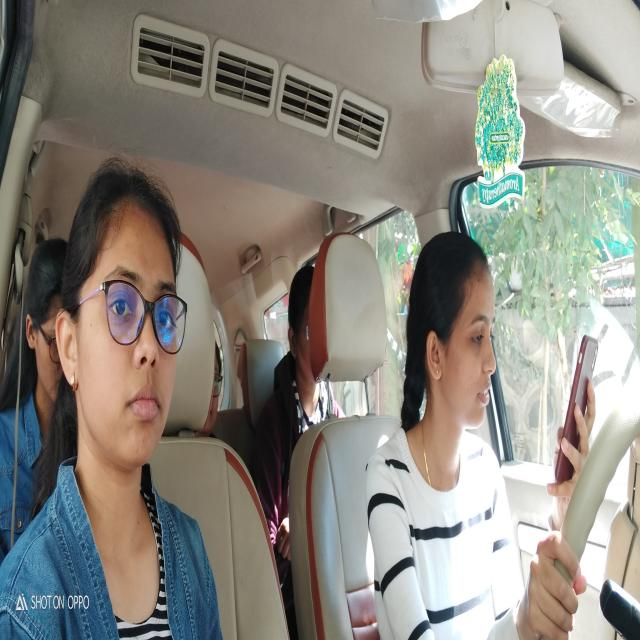mobile: (550, 311, 602, 503)
person: (63, 151, 193, 479), (399, 210, 502, 466), (22, 227, 66, 422), (278, 261, 319, 403), (214, 328, 227, 443)
